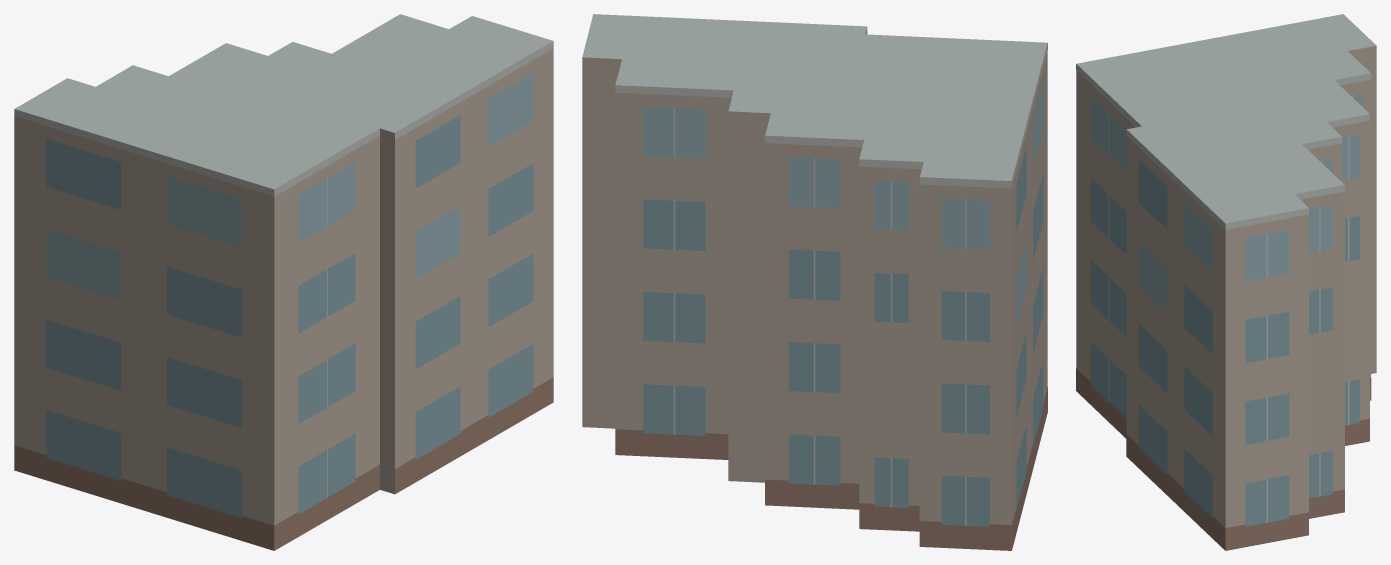
The model's file is survey-upis-32809409.glb.
The picture shows the model from 3 angles, left to right: view 1: azimuth 30°, elevation 25°; view 2: azimuth 150°, elevation 25°; view 3: azimuth 270°, elevation 25°; orthographic projection. The views are drawn at different scales.
Visible parts, largest first — view 1: survey-upis-32809409.tmp; view 2: survey-upis-32809409.tmp; view 3: survey-upis-32809409.tmp.
Part boxes in pixels (x1,y1,x2,y2): survey-upis-32809409.tmp: (14, 14, 553, 550); survey-upis-32809409.tmp: (582, 14, 1047, 550); survey-upis-32809409.tmp: (1076, 14, 1376, 550).
Bounding box in the file's own units: 16.76 × 12.2 × 10.16.
